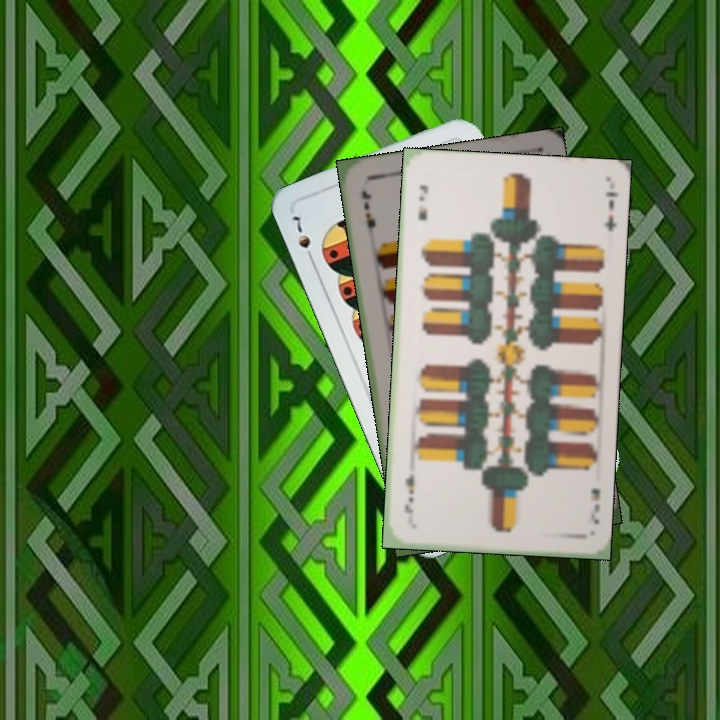E7: (358, 186, 378, 241), (586, 484, 602, 528), (415, 181, 430, 224)
S7: (288, 211, 317, 266)
